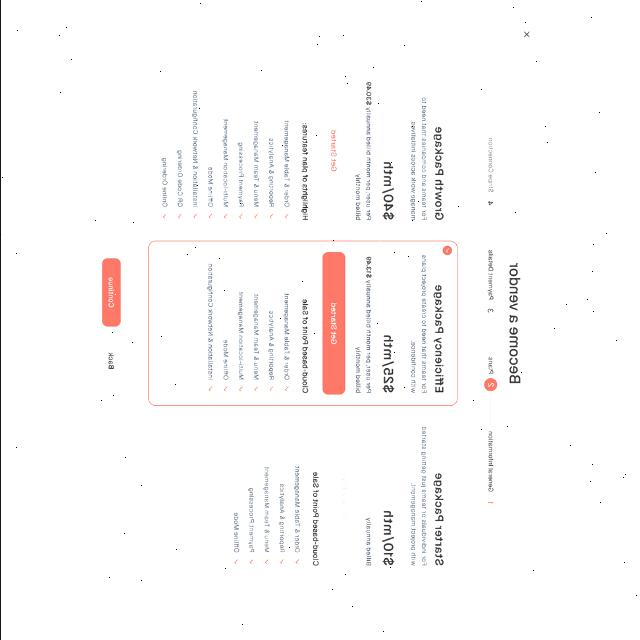QLabel: (409, 253, 428, 394), (409, 426, 427, 566), (410, 96, 428, 222), (508, 262, 522, 384), (432, 286, 444, 394), (432, 474, 444, 566), (434, 126, 444, 222), (206, 263, 214, 382), (190, 90, 198, 208), (364, 107, 372, 220), (300, 123, 308, 221), (300, 298, 308, 394), (236, 290, 244, 382), (382, 334, 394, 394), (382, 162, 394, 222), (282, 292, 290, 382), (292, 466, 300, 554), (262, 466, 270, 554), (282, 120, 290, 208), (365, 280, 371, 394), (382, 510, 394, 566), (266, 310, 274, 382), (312, 472, 318, 566), (266, 137, 274, 207), (236, 140, 244, 208), (222, 118, 228, 208), (247, 488, 255, 554), (252, 294, 258, 382), (252, 120, 258, 208), (486, 136, 494, 194), (278, 482, 284, 554), (159, 156, 167, 208), (175, 150, 182, 208), (486, 250, 494, 300), (364, 516, 372, 566), (354, 346, 362, 394), (488, 431, 494, 493), (340, 474, 348, 520), (329, 128, 337, 172), (329, 302, 337, 344), (232, 512, 240, 554), (206, 166, 214, 208), (355, 172, 361, 220), (222, 340, 228, 380), (107, 277, 113, 307), (366, 256, 372, 280), (365, 82, 371, 106), (107, 352, 113, 370), (488, 358, 494, 374)
VBtn: (321, 80, 345, 222), (321, 252, 345, 394), (332, 426, 356, 568), (102, 258, 120, 326), (102, 334, 120, 388)
VCard: (91, 11, 548, 633), (147, 240, 459, 408), (147, 412, 459, 580), (146, 68, 460, 234)
VDivider: (490, 394, 492, 426), (490, 213, 492, 244), (490, 321, 492, 352)
VIcon: (442, 245, 452, 255), (523, 30, 531, 40), (232, 558, 238, 566), (248, 559, 254, 565), (268, 386, 274, 392), (279, 558, 283, 566), (269, 212, 273, 220), (223, 212, 227, 220), (238, 213, 242, 220), (284, 386, 288, 392), (254, 386, 258, 392), (238, 386, 242, 392), (223, 386, 227, 392), (208, 386, 212, 392), (284, 213, 288, 219), (254, 214, 258, 220), (207, 213, 211, 219), (192, 213, 196, 219), (177, 213, 181, 219), (162, 213, 166, 219), (295, 560, 299, 564), (264, 560, 268, 564)
VStepper: (139, 62, 499, 584)
